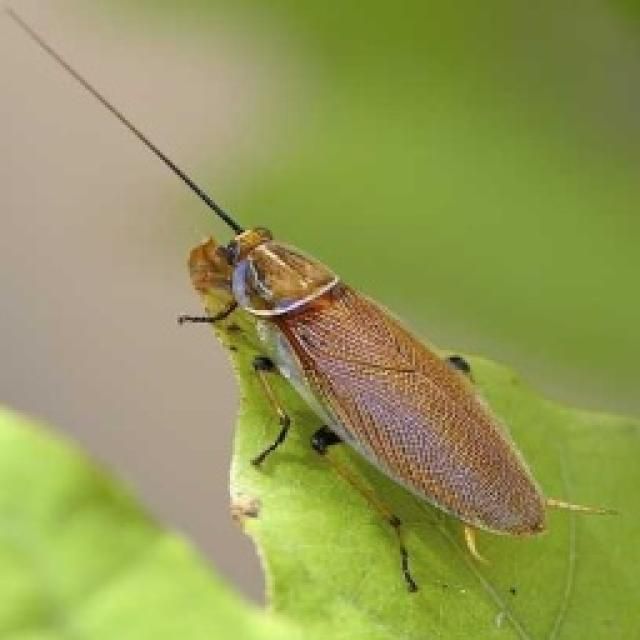cockroach: (184, 178, 618, 621)
